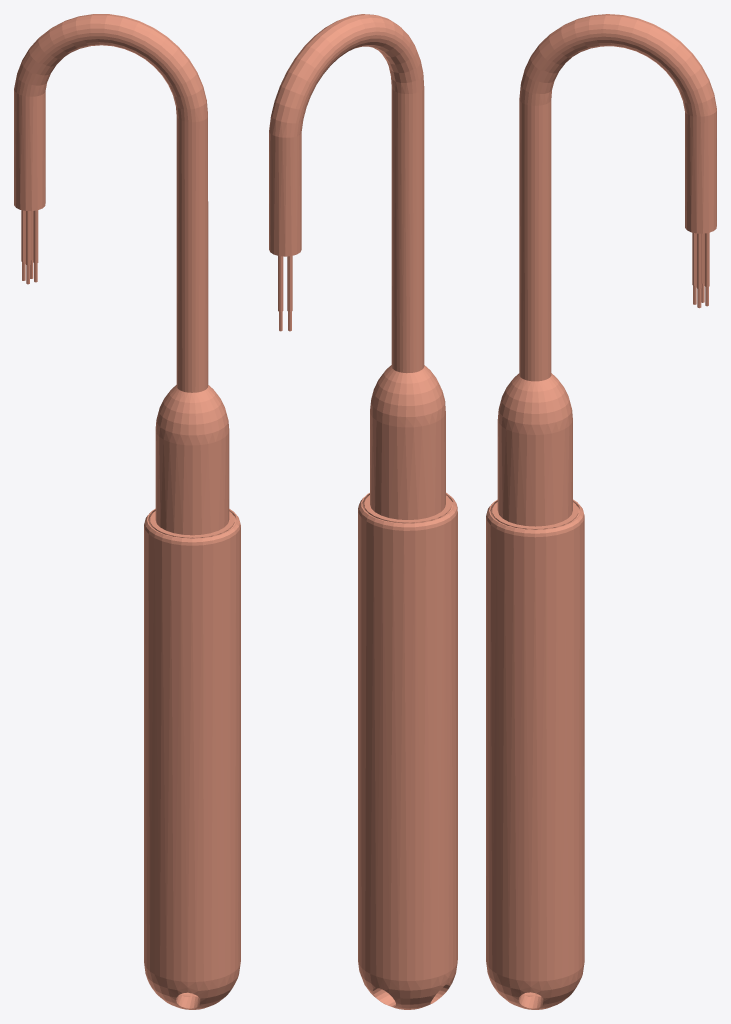
File: SDI-12 v2.fbx
3 views of the same model, side by side, from view 1: azimuth 90°, elevation 25°; view 2: azimuth 150°, elevation 25°; view 3: azimuth 270°, elevation 25° (orthographic). The views are drawn at different scales.
Parts seen in each view (by area): view 1: SDI-12; view 2: SDI-12; view 3: SDI-12.
Boxes of the visible parts, x1,y1,x2,y2 form: SDI-12: (14, 14, 240, 1009); SDI-12: (269, 14, 457, 1009); SDI-12: (486, 14, 716, 1009).
Bounding box in the file's own units: 25.53 × 257 × 53.79.
